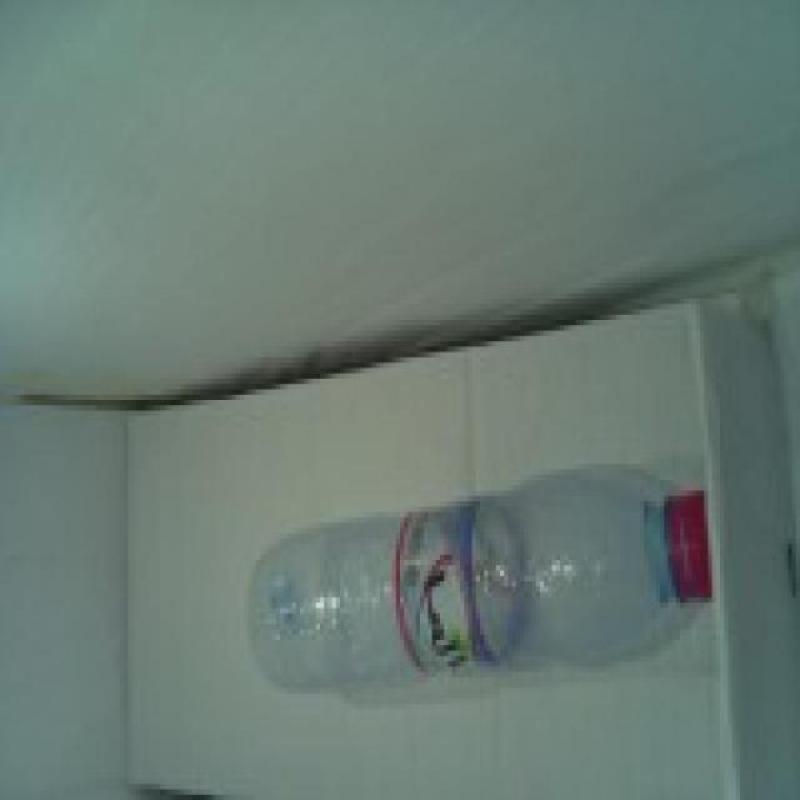botella: (240, 466, 712, 696)
